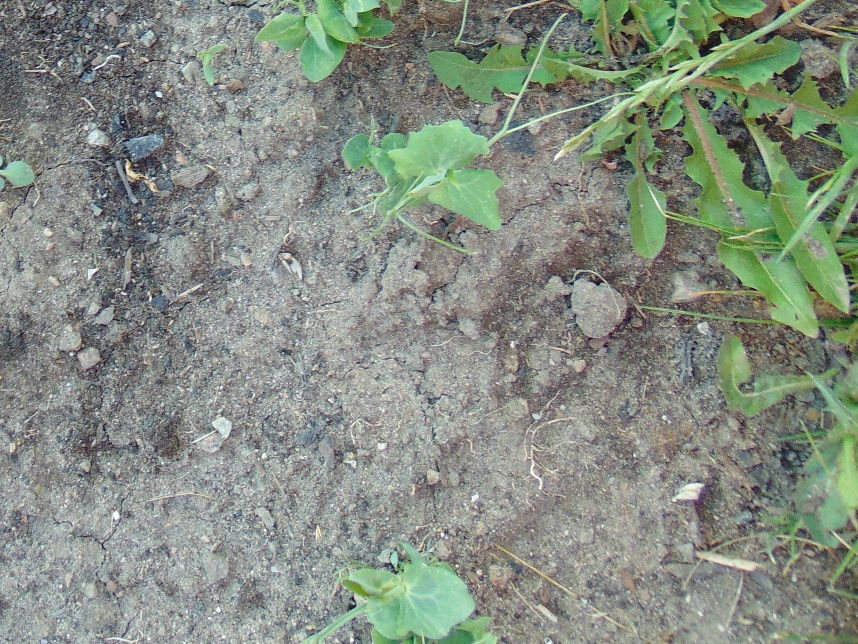crop: (341, 110, 542, 237), (294, 536, 498, 644), (255, 1, 382, 83)
weed: (569, 1, 854, 337), (718, 336, 858, 562), (425, 36, 585, 102), (1, 154, 36, 192)
